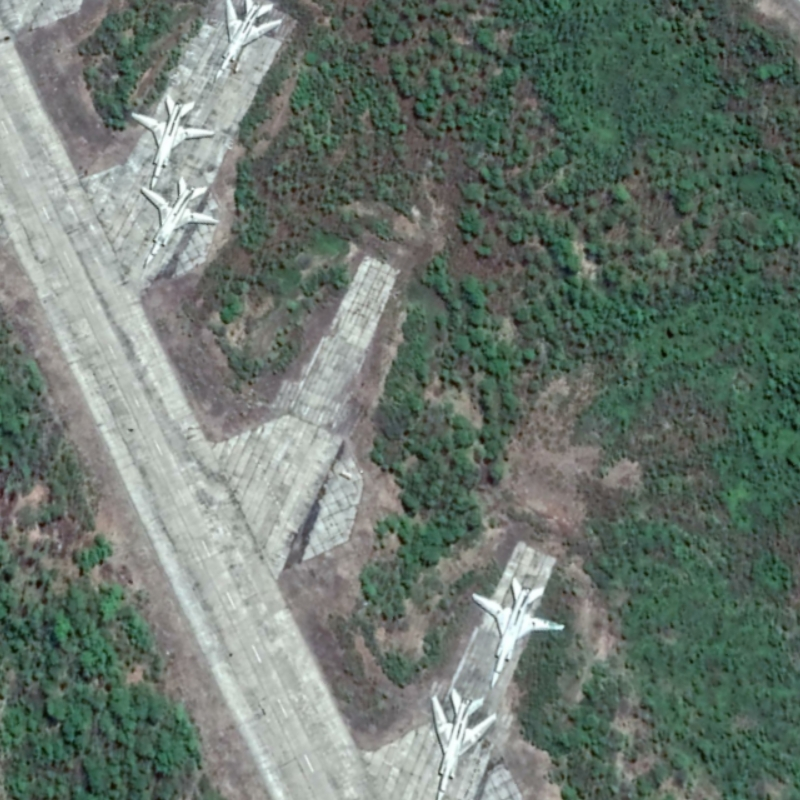A12: (468, 574, 568, 692), (128, 93, 218, 194), (426, 685, 501, 800), (137, 175, 221, 271), (209, 1, 283, 84)
